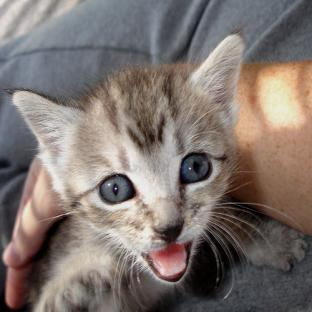Animal: (12, 33, 306, 311)
